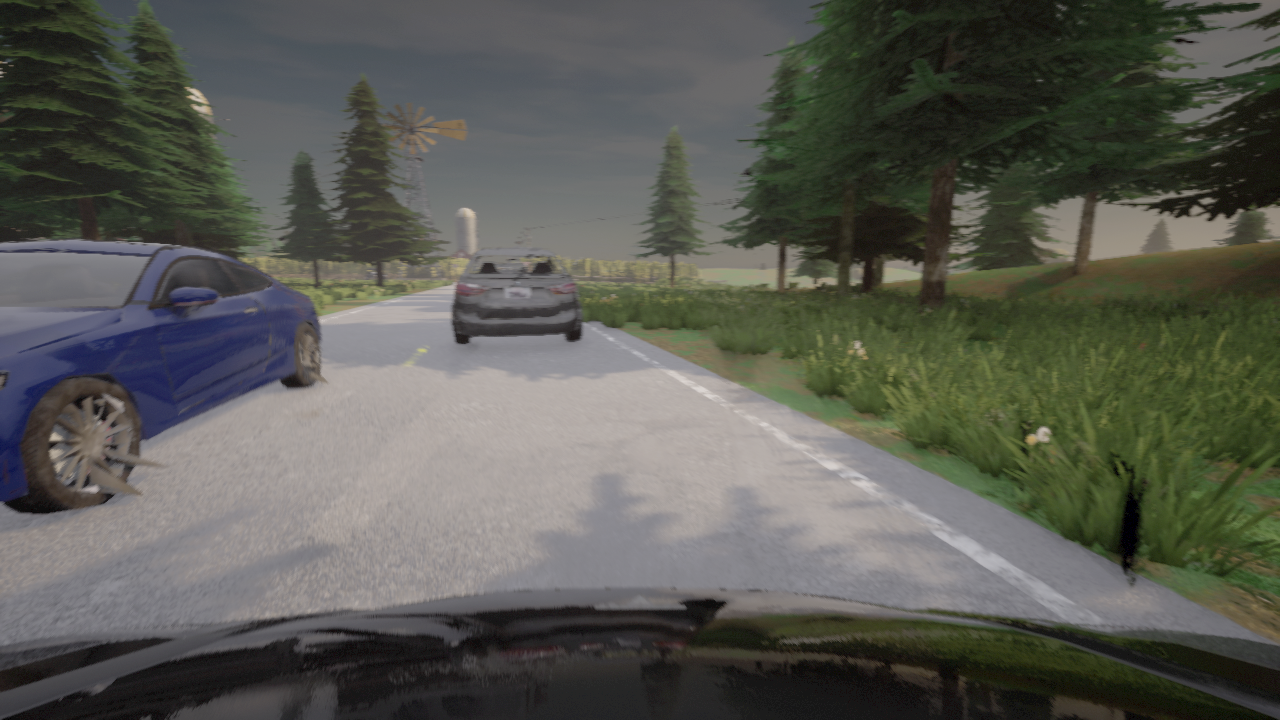cyclist: (0, 588, 1279, 719), (0, 239, 327, 515), (451, 248, 581, 344), (366, 268, 386, 279)
